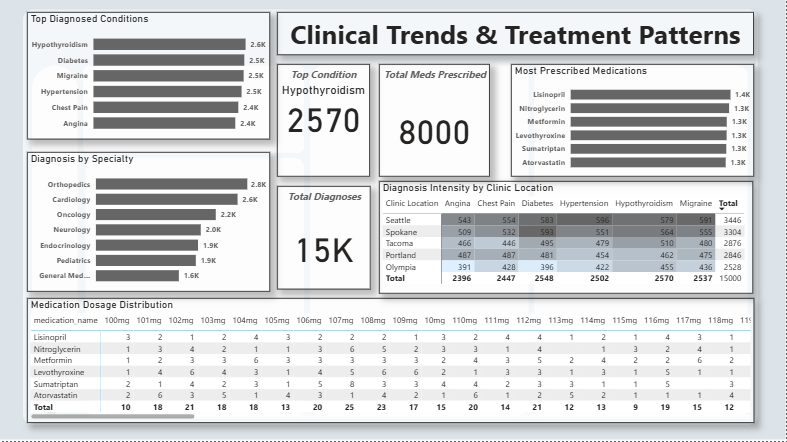

This screenshot's page, from the dashboard's own definition file:
{"tool":"powerbi","page":{"name":"Clinical","canvas":[1280,720],"ordinal":3},"visuals":[{"type":"pivotTable","title":"Diagnosis Intensity by Clinic Location","fields":{"Rows":["doctors.clinic_location"],"Columns":["diagnoses.diagnosis_name"],"Values":["_Measure Table.Total Diagnoses"]},"box":[618.2,297.3,608.1,183.1],"z":0},{"type":"card","fields":{"Values":["_Measure Table.Total Diagnoses"]},"box":[451.7,305,151.7,168.3],"z":1000},{"type":"card","fields":{"Values":["_Measure Table.Most common condition"]},"box":[451.9,107.5,151.2,57.1],"z":2000},{"type":"card","fields":{"Values":["_Measure Table.Total Medication Prescribed"]},"box":[618.2,107.5,179.7,183.1],"z":3000},{"type":"pivotTable","title":"Medication Dosage Distribution","fields":{"Rows":["medications.medication_name"],"Columns":["medications.dosage"],"Values":["_Measure Table.Total Medication"]},"box":[45,488.3,1181.7,203.3],"z":4000},{"type":"barChart","title":"Top Diagnosed Conditions","fields":{"Category":["diagnoses.diagnosis_name"],"Y":["_Measure Table.Total Diagnoses"]},"box":[45,23.3,395,206.7],"z":5000},{"type":"barChart","title":"Diagnosis by Specialty","fields":{"Category":["doctors.specialty"],"Y":["_Measure Table.Total Diagnoses"]},"box":[45,250,395,226.7],"z":6000},{"type":"barChart","title":"Most Prescribed Medications","fields":{"Category":["medications.medication_name"],"Y":["_Measure Table.Total Medication"]},"box":[831.7,106.7,395,183.3],"z":7000},{"type":"textbox","box":[451.7,23.3,775,70],"z":8000},{"type":"kpi","fields":{"Indicator":["_Measure Table.Total Diagnoses"],"TrendLine":["diagnoses.diagnosis_name"]},"box":[451.9,107.5,151.2,183.1],"z":9000}]}

Visuals, with their boxes in screenshot pixels (x1, y1, x2, y2), scaled from the page's 1280x720 canvas onto the 787x442 screenshot:
"Diagnosis Intensity by Clinic Location" pivotTable: BBox(380, 183, 754, 295)
card - _Measure Table.Total Diagnoses: BBox(278, 187, 371, 291)
card - _Measure Table.Most common condition: BBox(278, 66, 371, 101)
card - _Measure Table.Total Medication Prescribed: BBox(380, 66, 491, 178)
"Medication Dosage Distribution" pivotTable: BBox(28, 300, 754, 425)
"Top Diagnosed Conditions" barChart: BBox(28, 14, 271, 141)
"Diagnosis by Specialty" barChart: BBox(28, 153, 271, 293)
"Most Prescribed Medications" barChart: BBox(511, 66, 754, 178)
textbox: BBox(278, 14, 754, 57)
kpi - _Measure Table.Total Diagnoses x diagnoses.diagnosis_name: BBox(278, 66, 371, 178)
